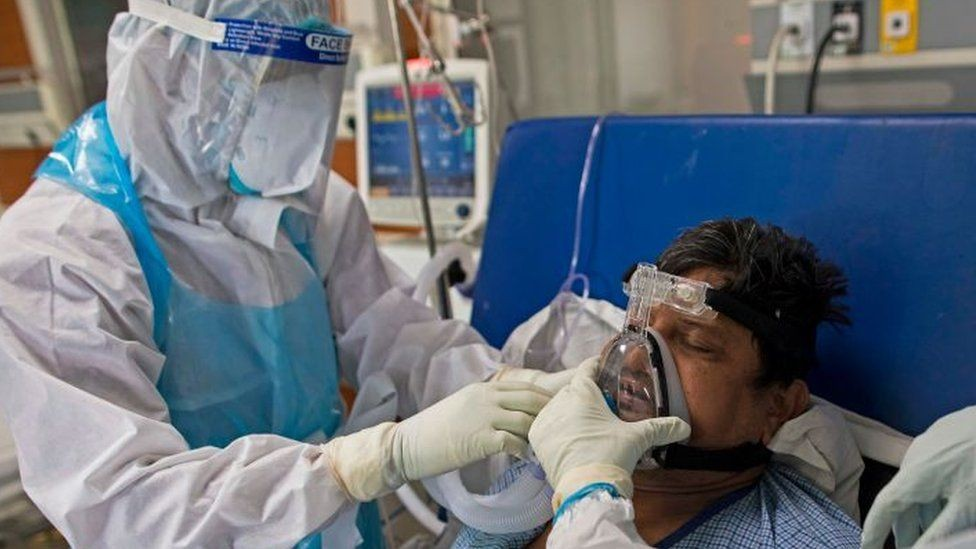Face_Shield: (174, 5, 357, 237)
Gloves: (315, 374, 560, 507), (525, 375, 695, 507)
with_mask: (232, 62, 331, 186)
